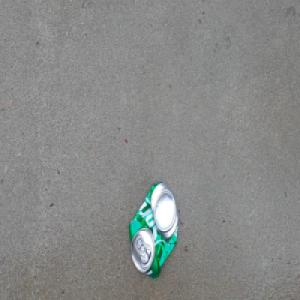SodaCan: (127, 178, 179, 279)
